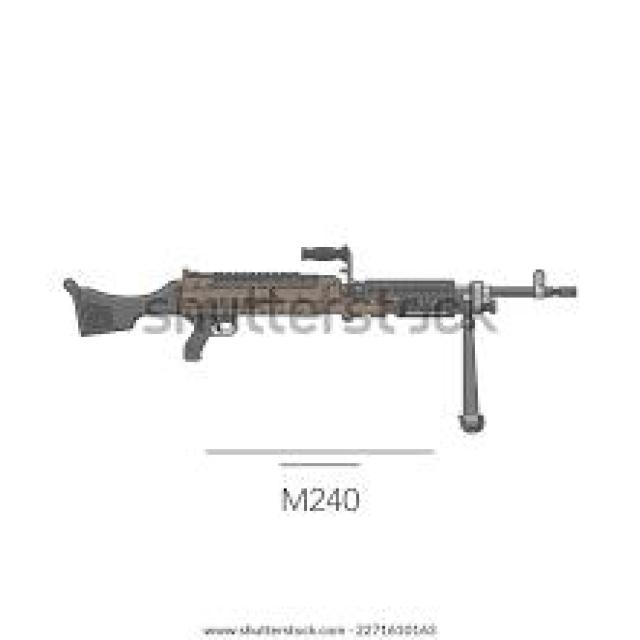Gun: (62, 244, 581, 454)
